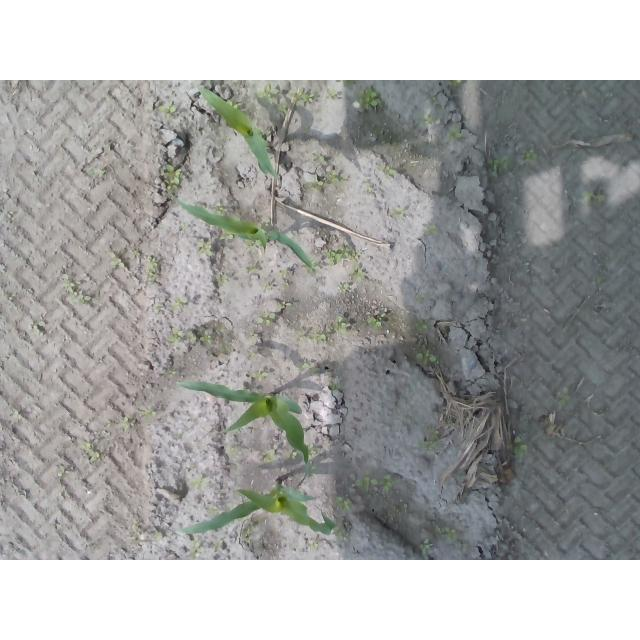Maize: (177, 379, 309, 465), (175, 197, 316, 271), (175, 478, 338, 536), (199, 87, 277, 178)
Weeds: (62, 275, 88, 303), (360, 87, 385, 113), (358, 474, 392, 490), (287, 86, 317, 104), (165, 163, 185, 189), (81, 440, 102, 464), (487, 155, 513, 174), (257, 84, 280, 105), (328, 246, 357, 260), (415, 349, 438, 365), (433, 528, 459, 541), (558, 386, 572, 410), (334, 496, 353, 513), (513, 435, 527, 458), (256, 310, 276, 326), (166, 326, 186, 342), (447, 126, 465, 142), (582, 191, 602, 205), (350, 266, 366, 283), (522, 146, 538, 162), (252, 370, 269, 383), (200, 242, 213, 259), (158, 103, 178, 114), (366, 316, 384, 328), (327, 171, 342, 185), (332, 317, 347, 331), (415, 318, 429, 332), (110, 257, 127, 268), (423, 439, 436, 453), (419, 540, 431, 555), (193, 541, 204, 557), (120, 416, 130, 433), (147, 255, 157, 272), (423, 224, 437, 236), (193, 475, 205, 489), (208, 504, 221, 516), (244, 527, 252, 545), (264, 450, 276, 462), (199, 335, 213, 345), (313, 333, 327, 343), (290, 447, 303, 457), (213, 275, 227, 284), (425, 115, 436, 126), (223, 230, 234, 241), (216, 206, 228, 216), (339, 283, 350, 293), (448, 81, 463, 88), (174, 299, 184, 309), (309, 445, 316, 459), (310, 541, 318, 552), (281, 301, 292, 309), (229, 101, 240, 109), (145, 410, 157, 417), (386, 166, 395, 175), (168, 370, 177, 378), (300, 361, 308, 370), (154, 532, 162, 541)
